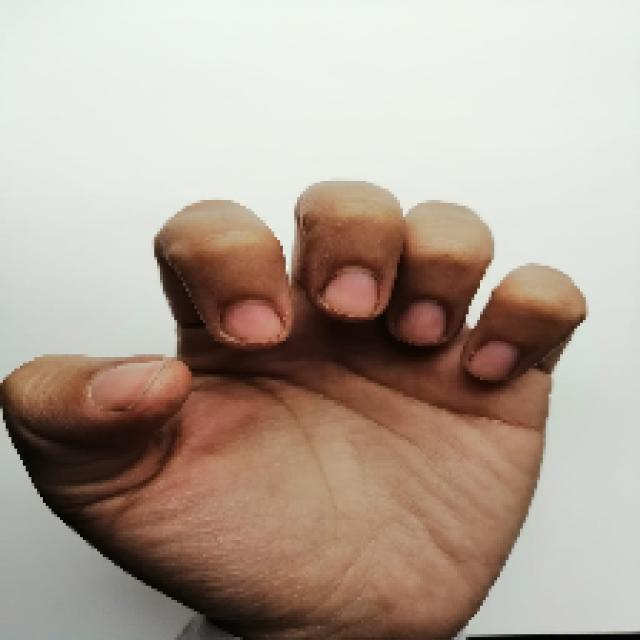Nail: (89, 361, 167, 411), (320, 265, 379, 318), (222, 299, 285, 344), (465, 339, 519, 381), (397, 302, 445, 346)
